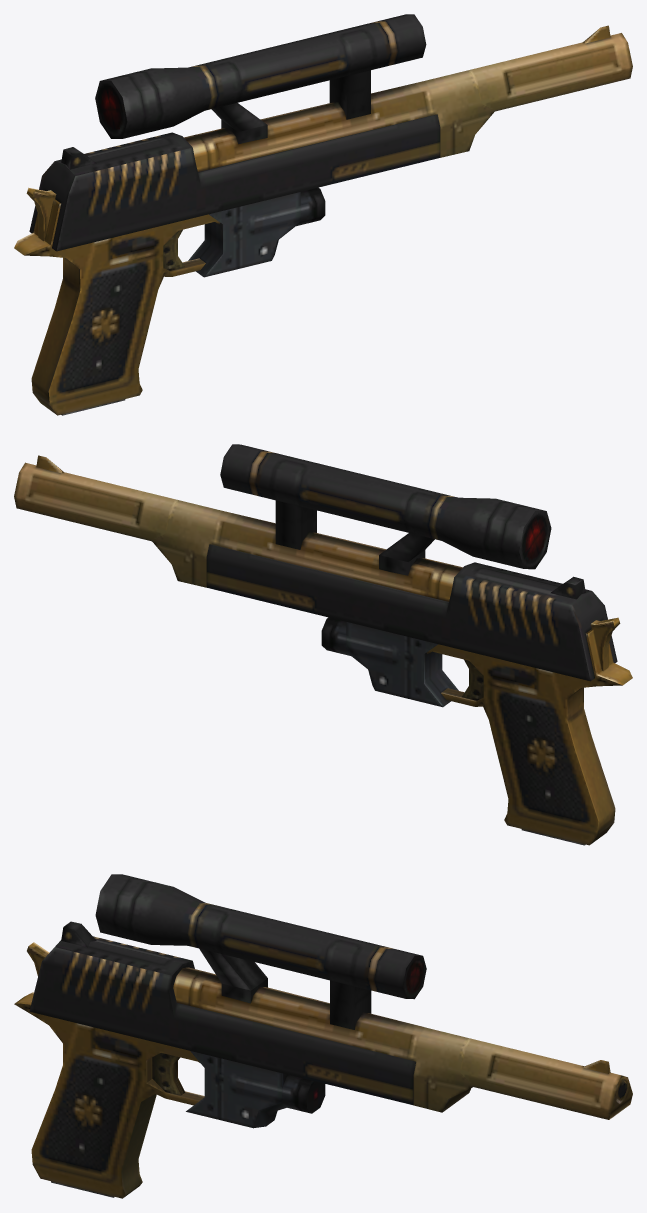
File: Weapon_Armas_Magnum_Weapon_Armas_Magnum_SkeletalMesh3_Crm_Magnum_Mk3_LOD0.psk.glb
The picture shows the model from 3 angles, top to bottom: view 1: azimuth 30°, elevation 25°; view 2: azimuth 150°, elevation 25°; view 3: azimuth 330°, elevation 25°; orthographic projection.
Bounding box in the file's own units: 37.47 × 18.84 × 3.47.
Materials: 1 (1 with a texture image).
